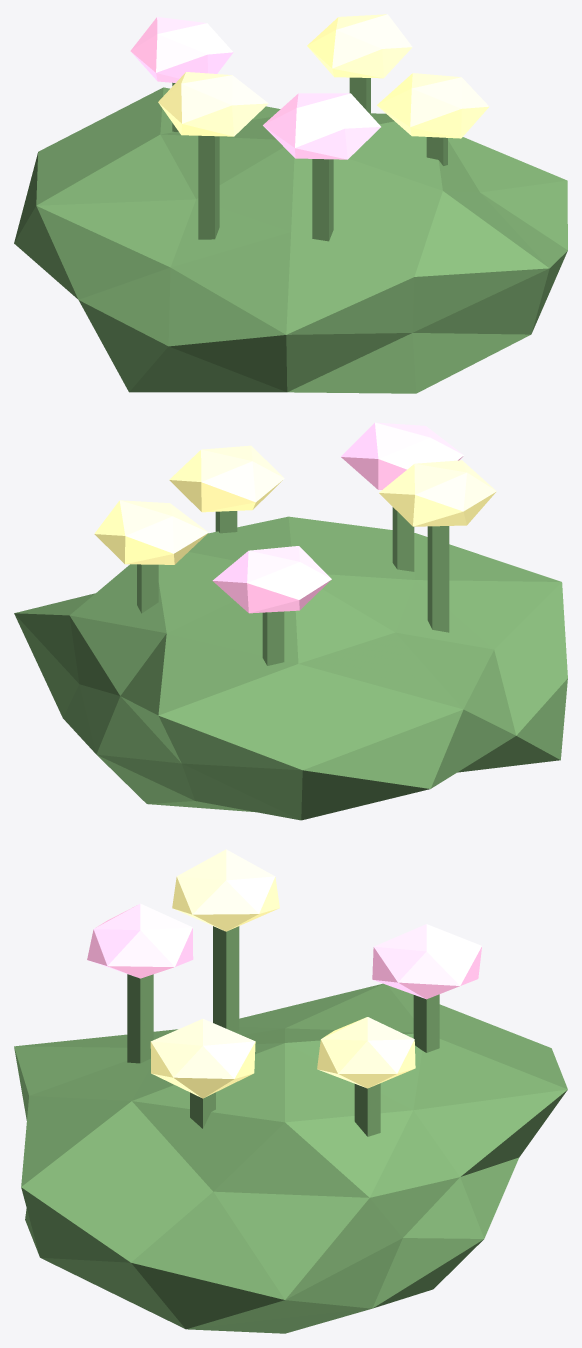
The model's file is bloom.glb.
3 renders of one model, top to bottom at view 1: azimuth 30°, elevation 25°; view 2: azimuth 150°, elevation 25°; view 3: azimuth 270°, elevation 25°, orthographic. The views are drawn at different scales.
Bounding box in the file's own units: 0.0556 × 0.0344 × 0.0508.
